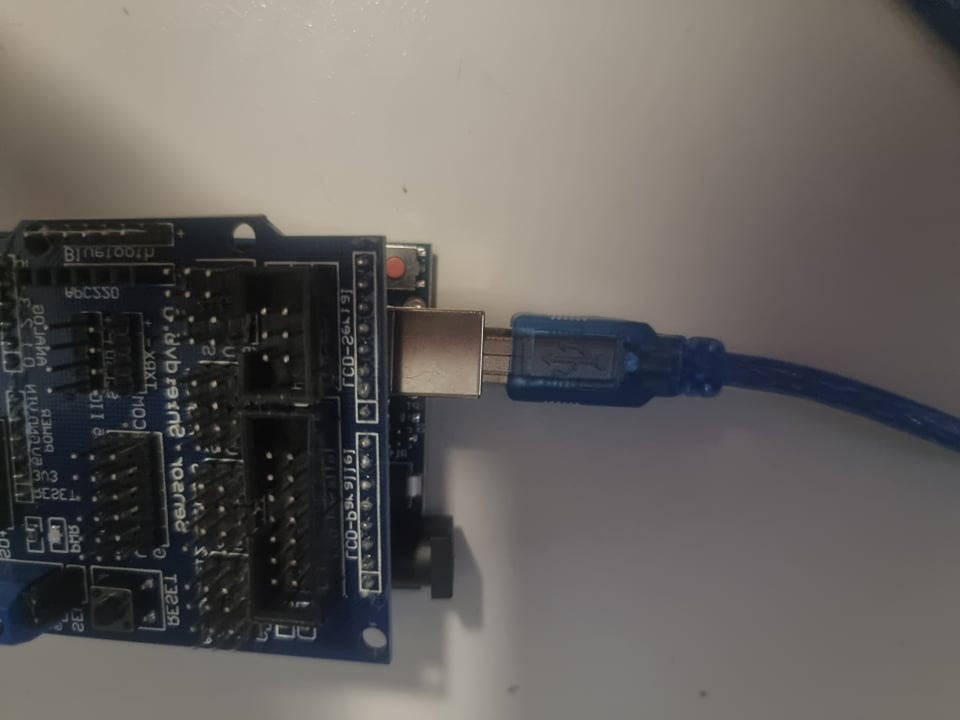5V EXPANSION: (0, 203, 387, 654)
UNO R3: (390, 225, 487, 667)
